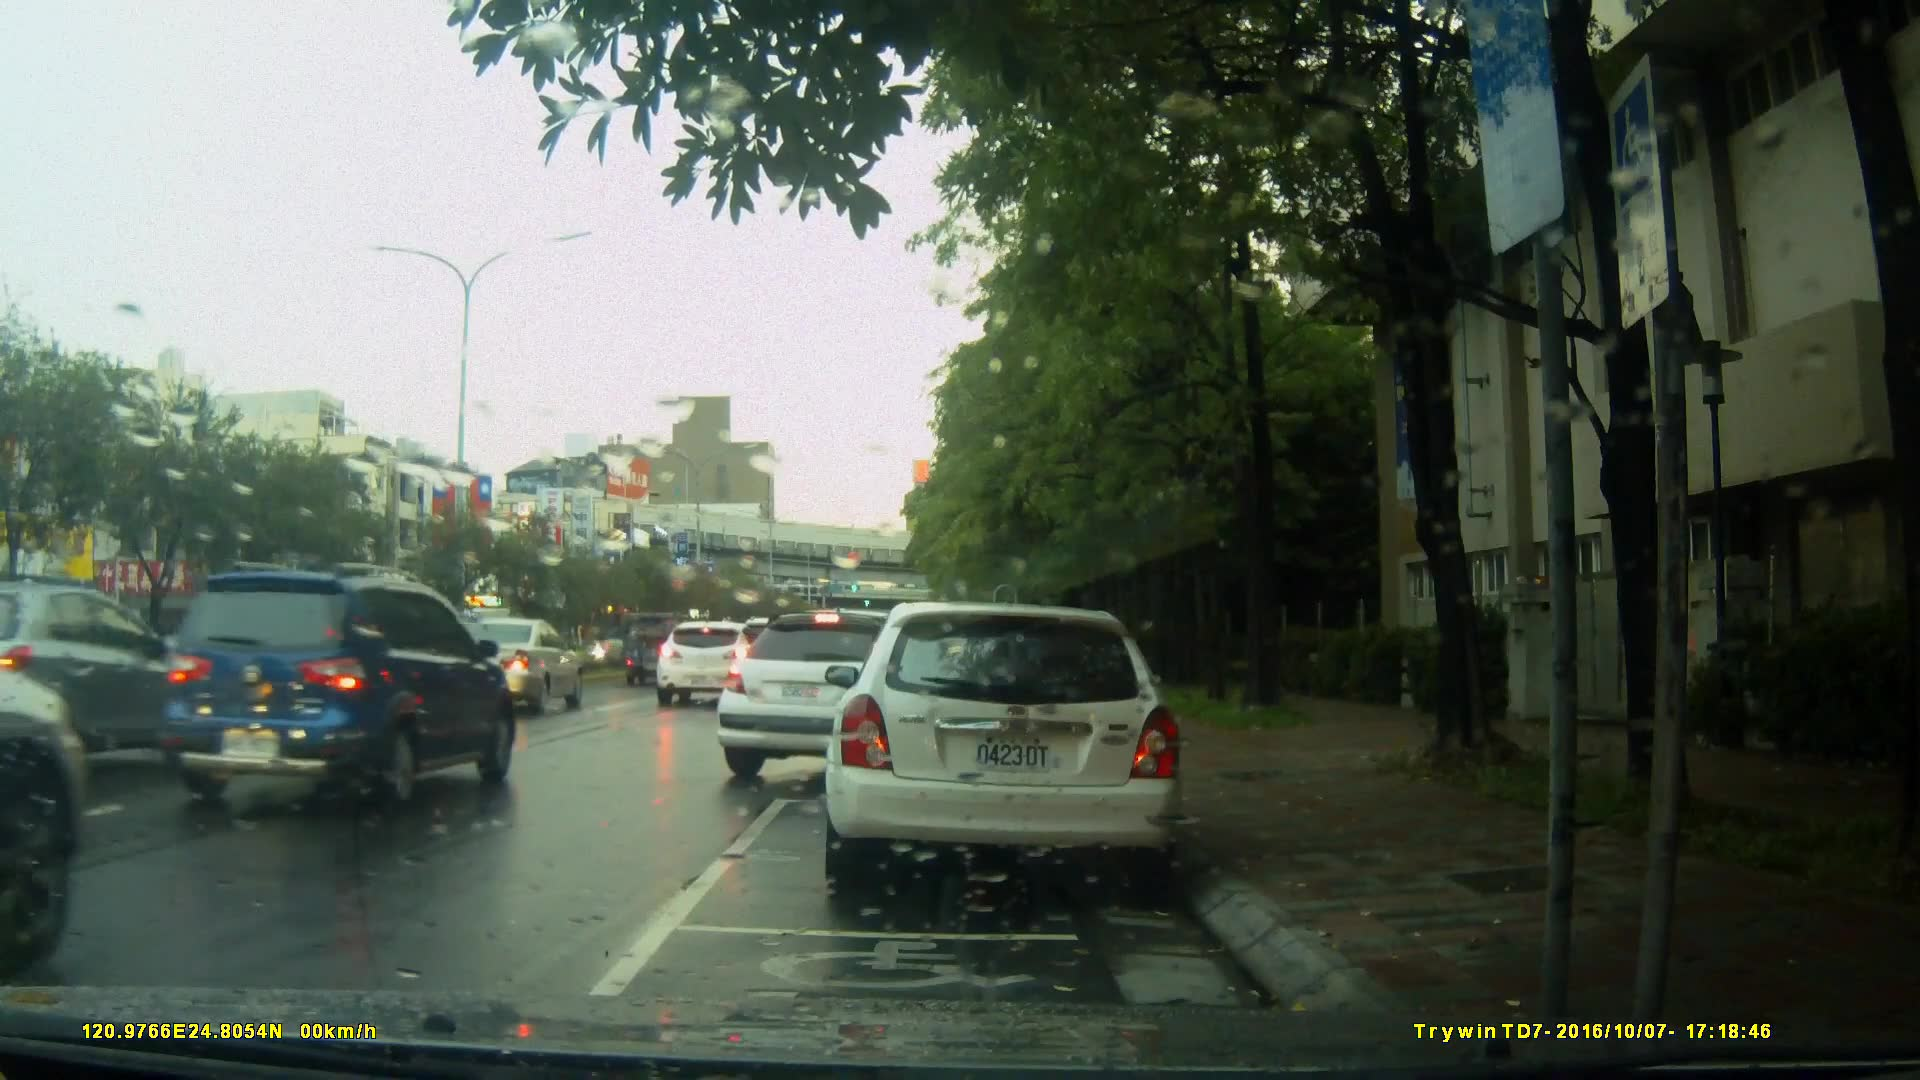vehicle: (820, 603, 1188, 898), (158, 560, 517, 814), (713, 609, 1005, 791), (22, 584, 287, 746), (425, 615, 591, 716), (654, 618, 761, 709)
